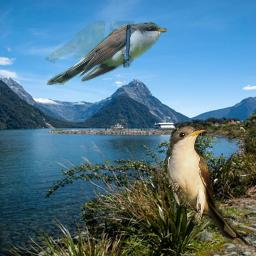Cuckoo: (164, 125, 252, 252), (45, 21, 167, 85)
